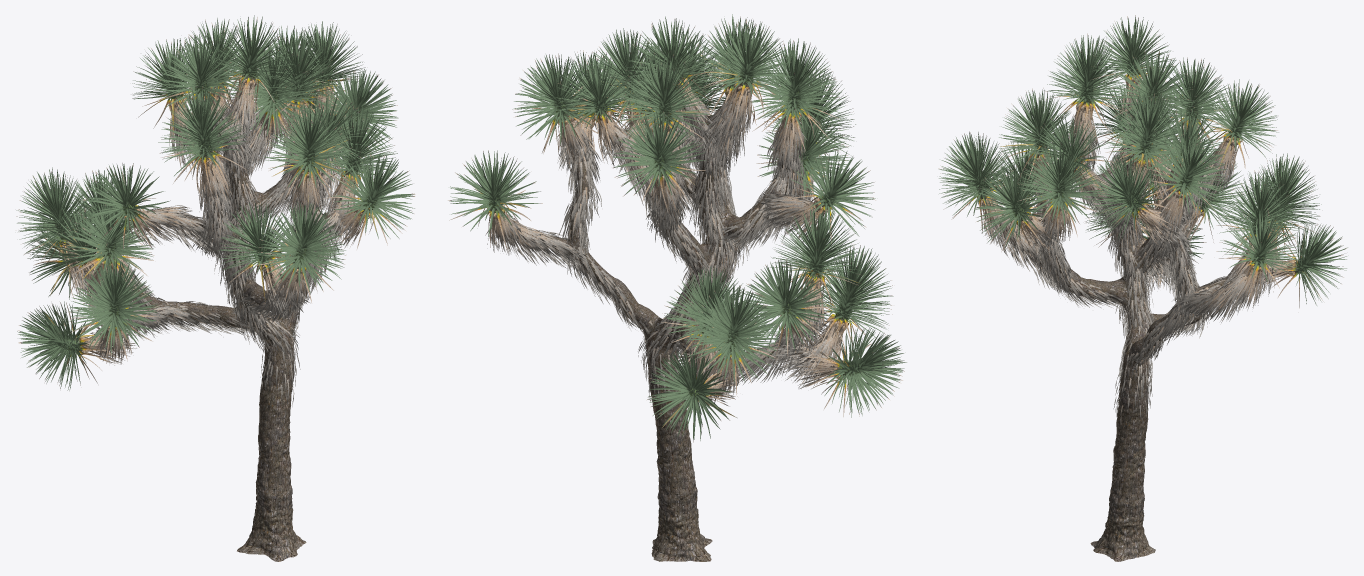
File: Yucca brevifolia HD_Standard no flower mat 75_LOD0.fbx
3 views of the same model, side by side, from view 1: azimuth 30°, elevation 25°; view 2: azimuth 150°, elevation 25°; view 3: azimuth 270°, elevation 25° (orthographic). The views are drawn at different scales.
Parts seen in each view (by area): view 1: Yucca_brevifolia_HD; view 2: Yucca_brevifolia_HD; view 3: Yucca_brevifolia_HD.
Part boxes in pixels (box(x1,y1,x2,y2)): Yucca_brevifolia_HD: box(16, 15, 415, 561); Yucca_brevifolia_HD: box(448, 14, 906, 561); Yucca_brevifolia_HD: box(938, 15, 1347, 561).
Bounding box in the file's own units: 3.56 × 4.7 × 3.53.
